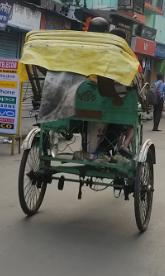Auto: (16, 28, 157, 240)
